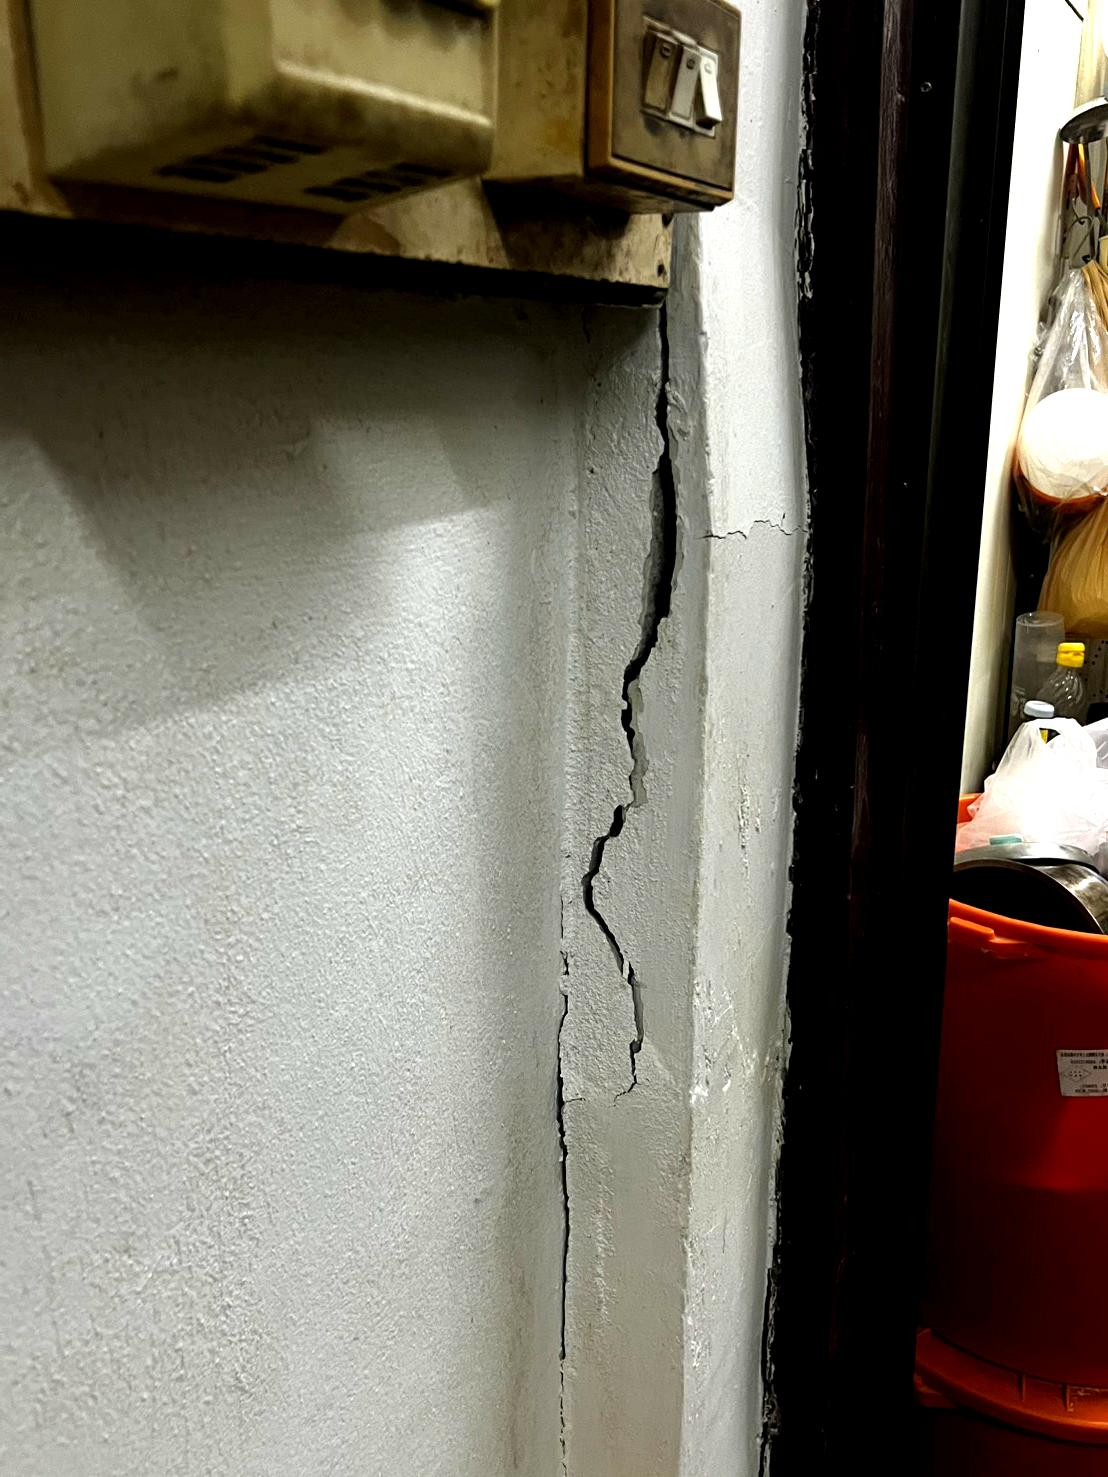High: (523, 301, 722, 1477)
